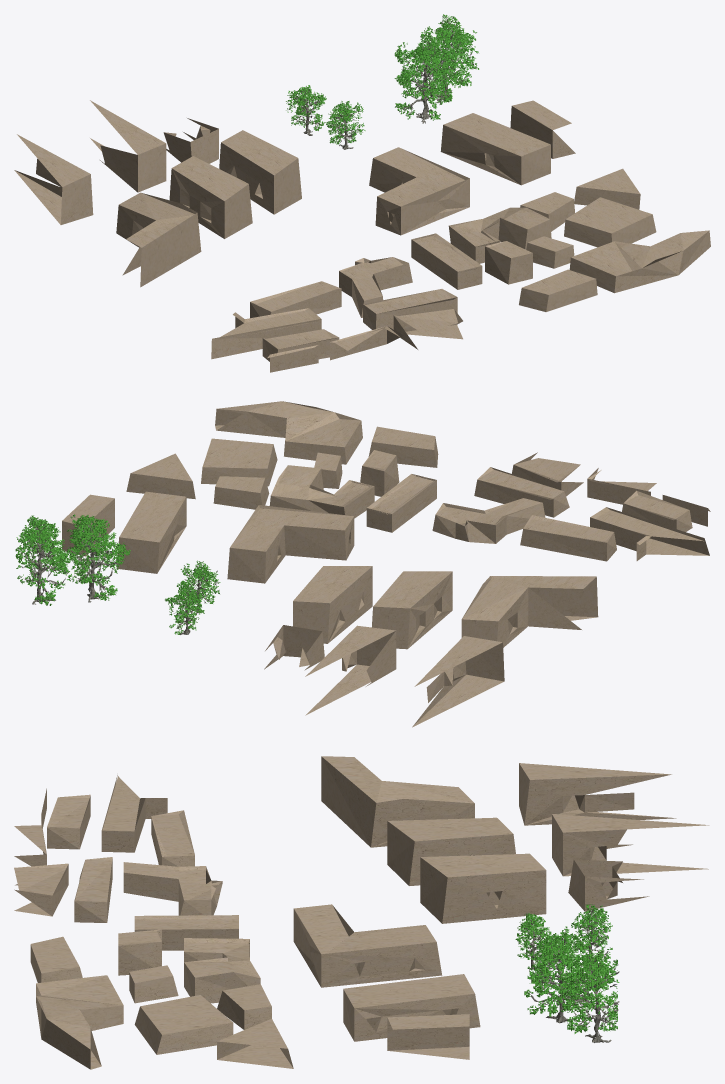
Rendered from tile_-1_1.gltf.
3 views of the same model, one above another, from view 1: azimuth 30°, elevation 25°; view 2: azimuth 150°, elevation 25°; view 3: azimuth 270°, elevation 25° (orthographic). The views are drawn at different scales.
Parts seen in each view (by area): view 1: Plane.011@tile_-1_1, Bodhi Tree_Bodhi_front_2_Mat_0.044@tile_-1_1; view 2: Plane.011@tile_-1_1, Bodhi Tree_Bodhi_front_2_Mat_0.044@tile_-1_1; view 3: Plane.011@tile_-1_1, Bodhi Tree_Bodhi_front_2_Mat_0.044@tile_-1_1.
Part boxes in pixels (left/top/right/bottom): Plane.011@tile_-1_1: left=14, top=100, right=710, bottom=372; Bodhi Tree_Bodhi_front_2_Mat_0.044@tile_-1_1: left=286, top=14, right=479, bottom=149; Plane.011@tile_-1_1: left=62, top=401, right=710, bottom=727; Bodhi Tree_Bodhi_front_2_Mat_0.044@tile_-1_1: left=15, top=514, right=220, bottom=634; Plane.011@tile_-1_1: left=14, top=756, right=709, bottom=1069; Bodhi Tree_Bodhi_front_2_Mat_0.044@tile_-1_1: left=515, top=904, right=619, bottom=1042.
Size of the model in its own units: 108 by 17.44 by 114.
3 materials, 2 textured.
